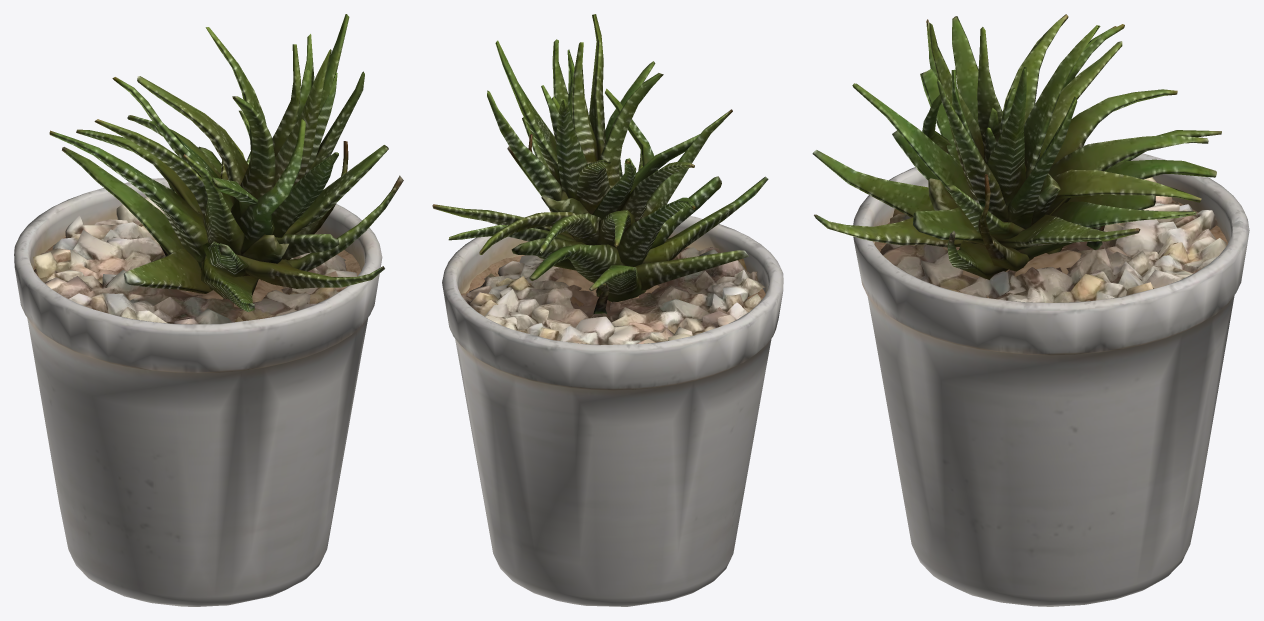
The model's file is potted_plant_04.glb.
The picture shows the model from 3 angles, left to right: view 1: azimuth 30°, elevation 25°; view 2: azimuth 150°, elevation 25°; view 3: azimuth 270°, elevation 25°; orthographic projection. The views are drawn at different scales.
Parts seen in each view (by area): view 1: potted_plant_04_ground; view 2: potted_plant_04_ground; view 3: potted_plant_04_ground.
Part boxes in pixels (x1=…): potted_plant_04_ground: x1=14, y1=14, x2=403, y2=606; potted_plant_04_ground: x1=432, y1=14, x2=783, y2=606; potted_plant_04_ground: x1=812, y1=14, x2=1249, y2=606.
Size of the model in its own units: 0.1674 by 0.2672 by 0.1847.
1 material, 1 textured.
